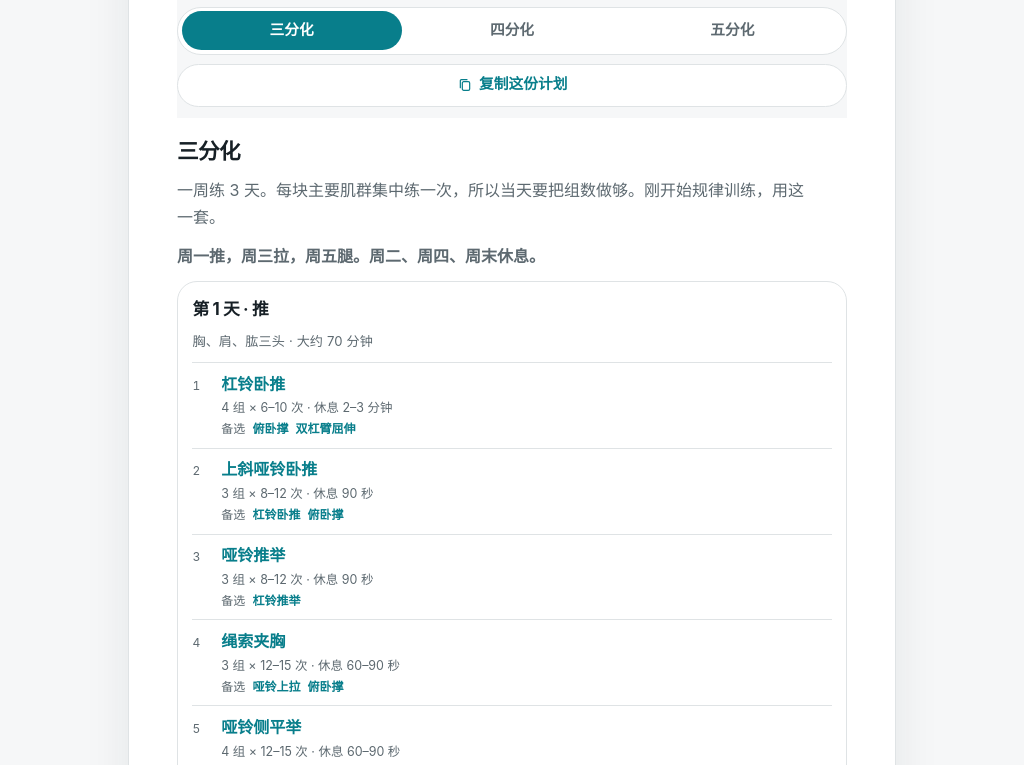
App › opens a plan exercise fullscreen and returns to the plan
(page scrolled)
Click the 1st link "杠铃卧推": (253,384) top-left (221, 374), bottom-right (285, 394)
(page scrolled)
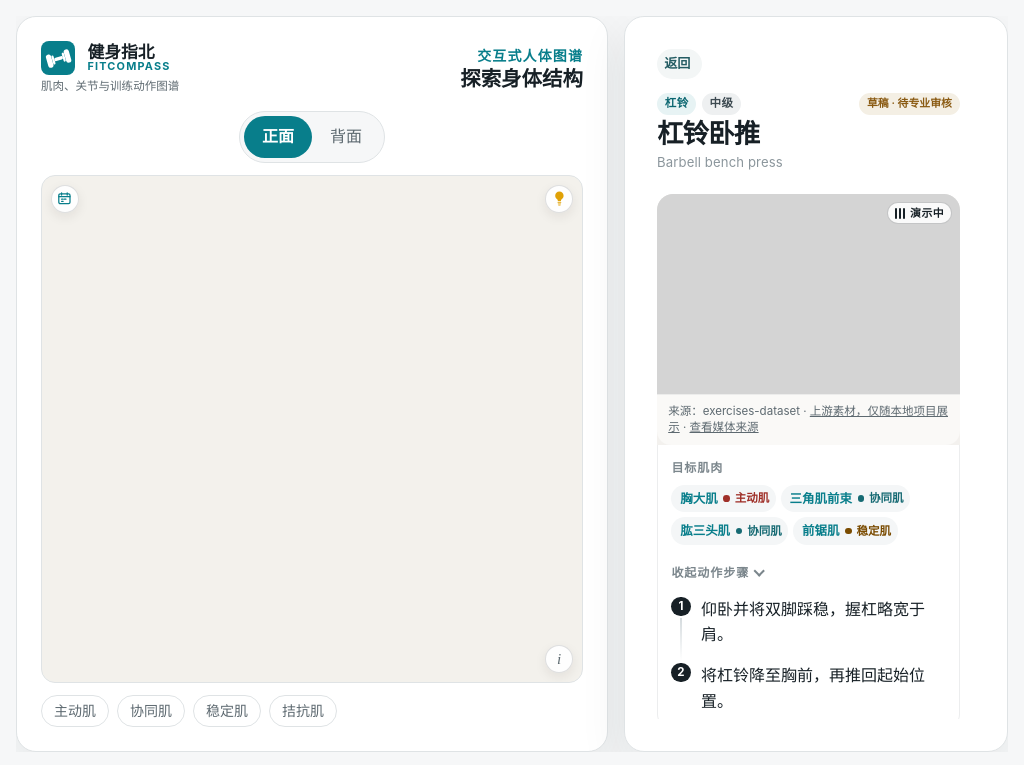
Expected: the heading "杠铃卧推" is shown, top-left (657, 117), bottom-right (759, 149)
Click the button "返回": (679,64) top-left (657, 49), bottom-right (702, 79)
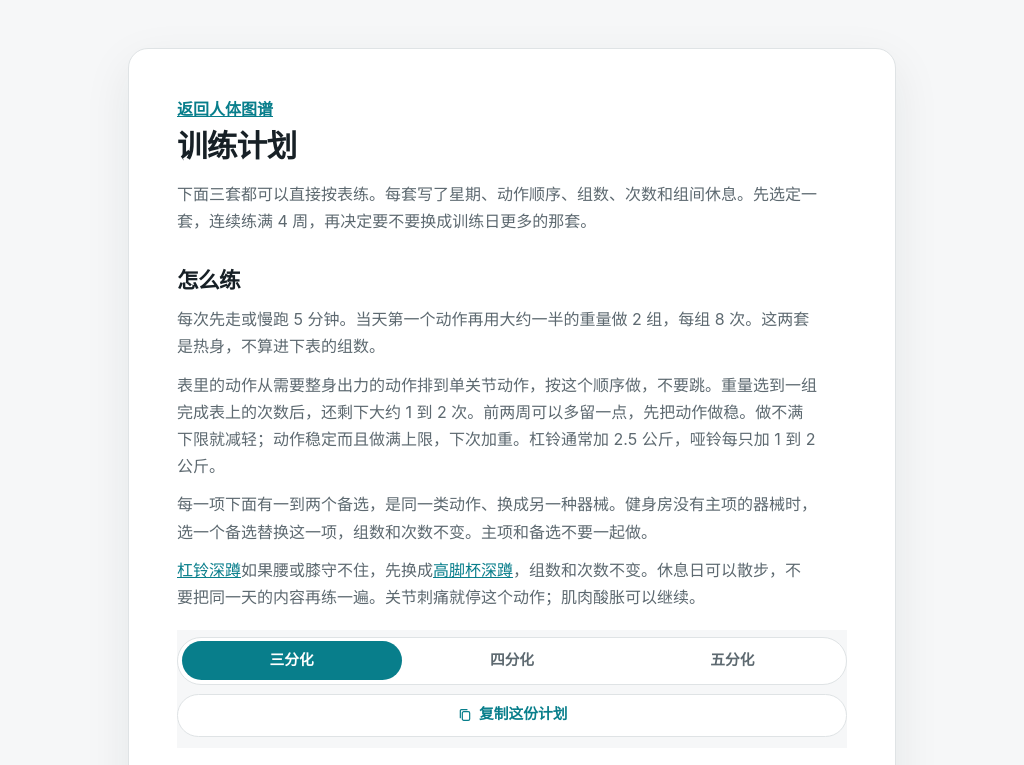
Now the heading "训练计划" is shown, box top-left (177, 127), bottom-right (296, 164)
